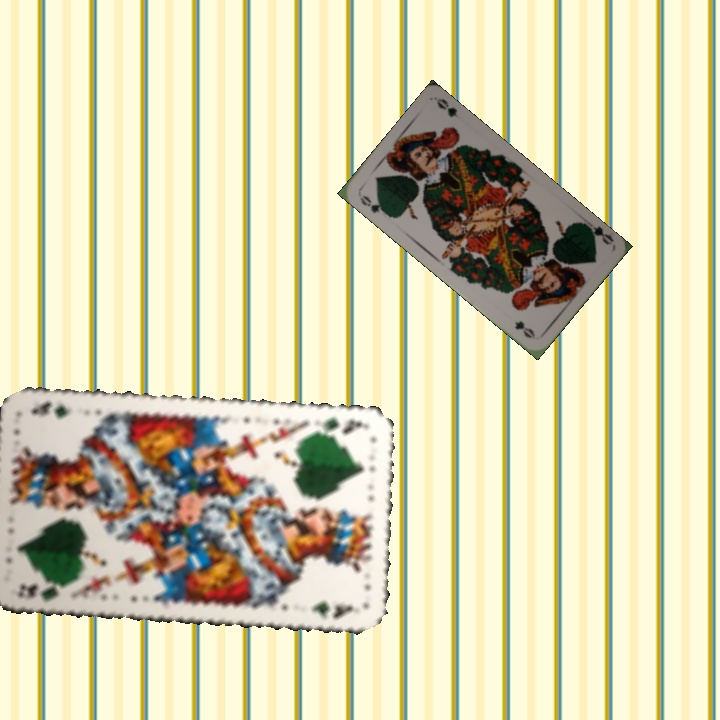GK: (14, 579, 74, 605), (314, 413, 373, 439)
GO: (578, 215, 615, 248), (355, 191, 391, 218)
